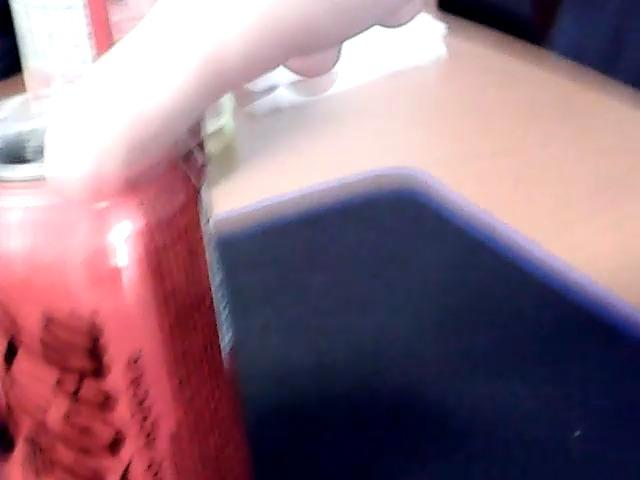coke: (0, 140, 257, 480)
